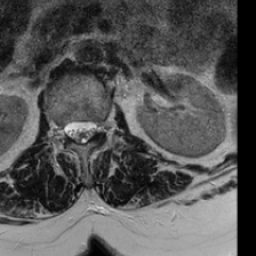CCS_normal: (74, 110, 85, 149)
LFS_normal: (96, 110, 106, 143)
LLS_normal: (85, 113, 96, 146)
RFS_normal: (55, 113, 64, 148)
RLS_normal: (64, 110, 74, 146)
